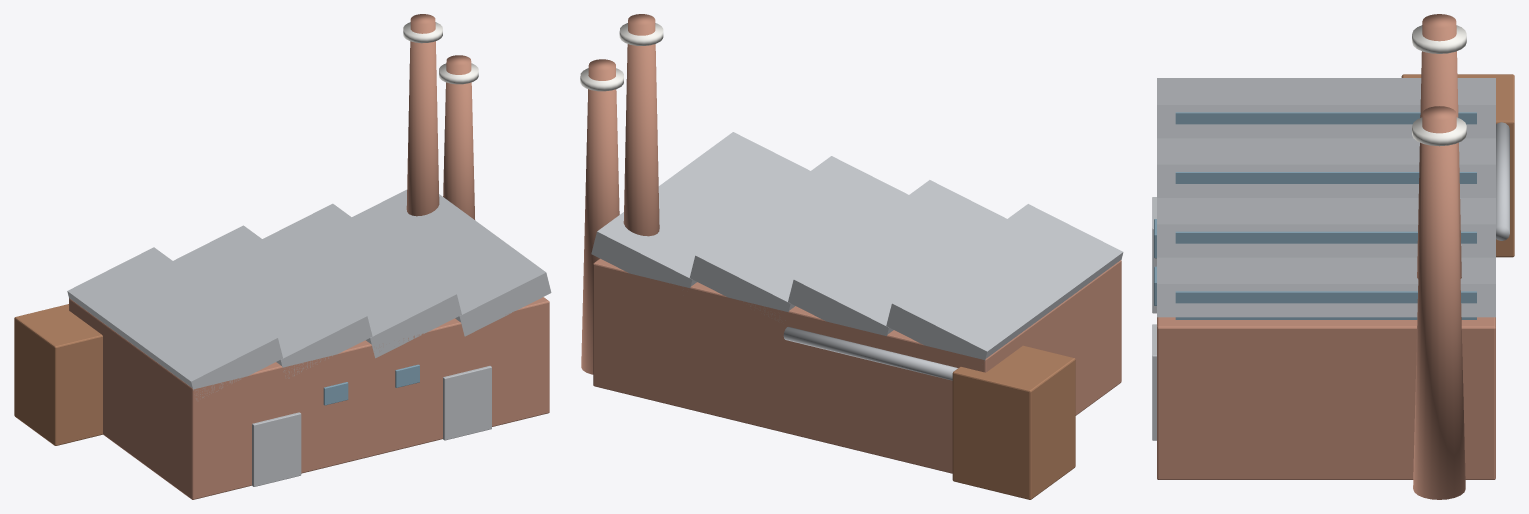
Rendered from factory.glb.
3 views of the same model, side by side, from view 1: azimuth 30°, elevation 25°; view 2: azimuth 150°, elevation 25°; view 3: azimuth 270°, elevation 25° (orthographic). The views are drawn at different scales.
Visible parts, largest first — view 1: hall, Cube, Cube.002, Cube.001, Cube.003, tank, chimney, chimney.001, door, door.001; view 2: hall, Cube, tank, Cube.002, Cube.001, Cube.003, chimney, chimney.001, pipe, band, band.001; view 3: hall, chimney.001, Cube, Cube.003, Cube.002, Cube.001, skylight.003, chimney, skylight, skylight.002, skylight.001, tank (+4 smaller).
Boxes of the visible parts, left/top/right/bottom form: hall: left=69, top=297, right=549, bottom=499; Cube: left=67, top=247, right=282, bottom=399; Cube.002: left=262, top=203, right=461, bottom=358; Cube.001: left=173, top=225, right=372, bottom=378; Cube.003: left=352, top=189, right=551, bottom=336; tank: left=14, top=304, right=102, bottom=445; chimney: left=406, top=14, right=439, bottom=216; chimney.001: left=443, top=55, right=474, bottom=219; door: left=252, top=412, right=301, bottom=486; door.001: left=443, top=366, right=491, bottom=440; hall: left=593, top=258, right=1121, bottom=473; Cube: left=886, top=204, right=1123, bottom=361; tank: left=952, top=345, right=1075, bottom=499; Cube.002: left=689, top=156, right=908, bottom=321; Cube.001: left=788, top=180, right=1006, bottom=336; Cube.003: left=591, top=132, right=810, bottom=289; chimney: left=623, top=14, right=659, bottom=236; chimney.001: left=581, top=59, right=619, bottom=374; pipe: left=783, top=326, right=957, bottom=380; band: left=619, top=23, right=663, bottom=45; band.001: left=580, top=68, right=623, bottom=91; hall: left=1157, top=317, right=1495, bottom=479; chimney.001: left=1413, top=106, right=1465, bottom=499; Cube: left=1157, top=78, right=1495, bottom=138; Cube.003: left=1157, top=257, right=1495, bottom=317; Cube.002: left=1157, top=198, right=1495, bottom=257; Cube.001: left=1157, top=138, right=1495, bottom=197; skylight.003: left=1175, top=291, right=1476, bottom=319; chimney: left=1417, top=14, right=1461, bottom=278; skylight: left=1175, top=112, right=1476, bottom=124; skylight.002: left=1175, top=231, right=1476, bottom=243; skylight.001: left=1175, top=172, right=1476, bottom=183; tank: left=1401, top=74, right=1514, bottom=257.
Bounding box in the file's own units: 36.45 × 26 × 19.25.
